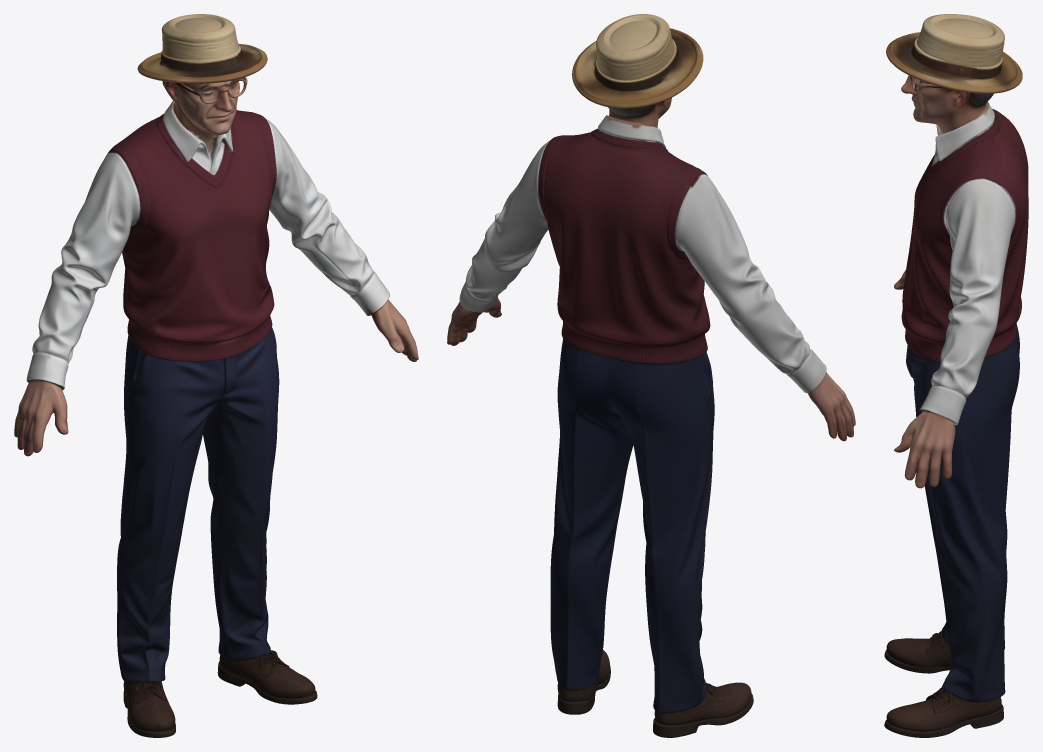
3 renders of one model, left to right at view 1: azimuth 30°, elevation 25°; view 2: azimuth 150°, elevation 25°; view 3: azimuth 270°, elevation 25°, orthographic.
Visible parts, largest first — view 1: node_0; view 2: node_0; view 3: node_0.
Part boxes in pixels (x1,y1,x2,y2): node_0: [14, 14, 418, 737]; node_0: [447, 14, 855, 737]; node_0: [884, 14, 1028, 737].
Bounding box in the file's own units: 22910 × 37918 × 7341.
1 material, 1 textured.
